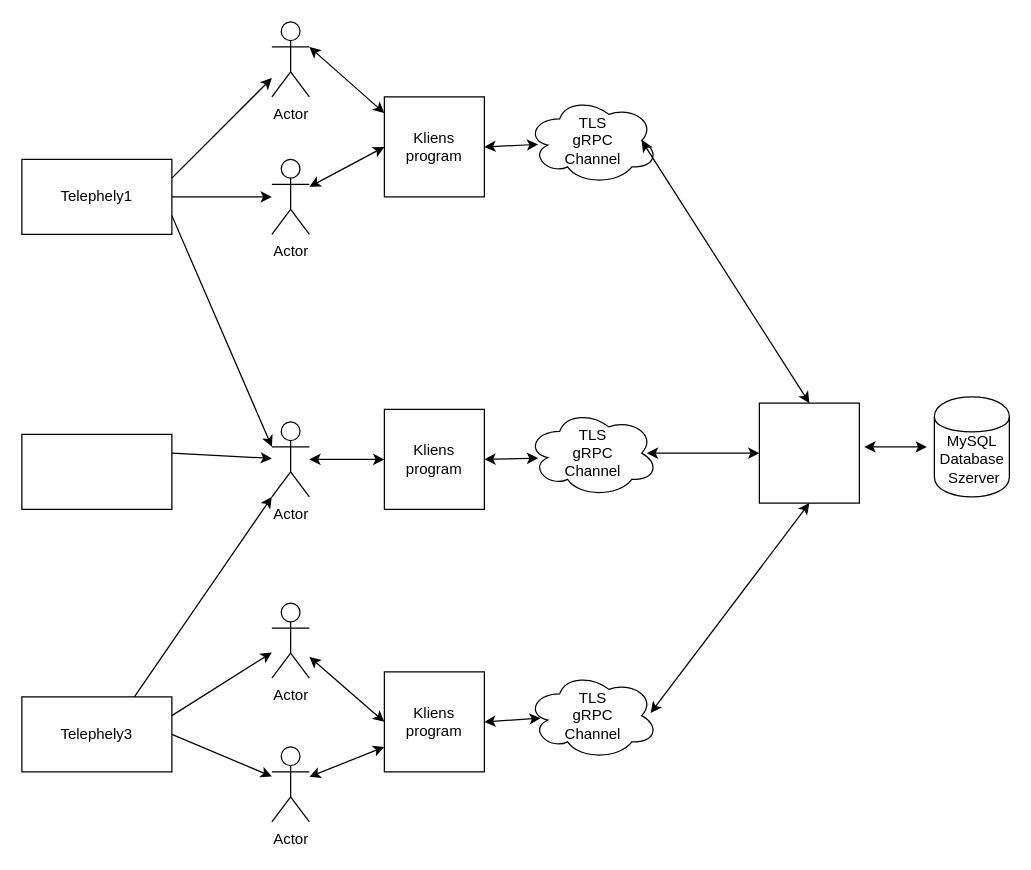
Some shapes in this 1031 by 870 pixel diagram are drawn without their labels. Here are the shapes that lost their labels. From the top down, the box of each, then its label:
(21, 433, 172, 509): Telephely2
(758, 402, 859, 503): gRPC szerver
